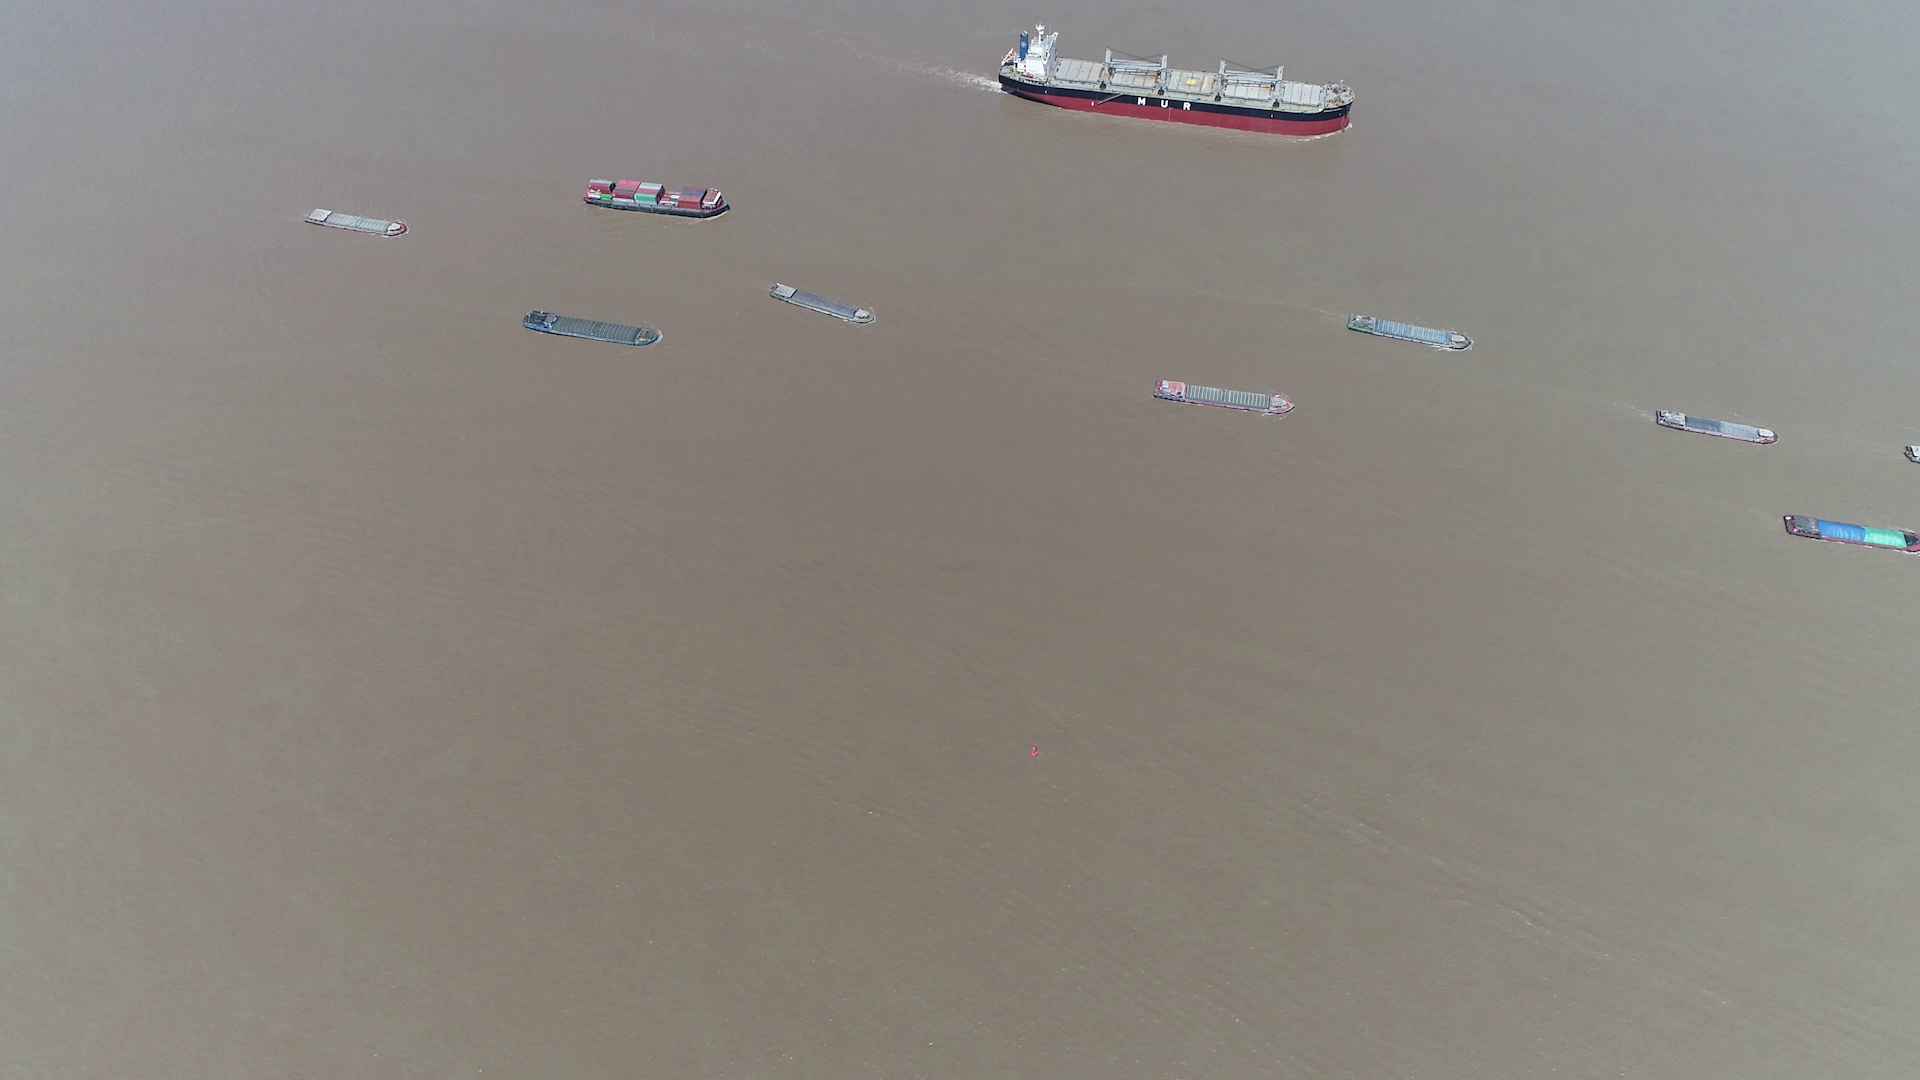ship: (1000, 30, 1356, 135), (521, 310, 661, 349), (1782, 513, 1920, 553), (585, 179, 728, 218), (1153, 378, 1294, 415), (1348, 311, 1472, 351), (1654, 407, 1778, 444), (769, 285, 876, 324), (305, 207, 407, 237)
